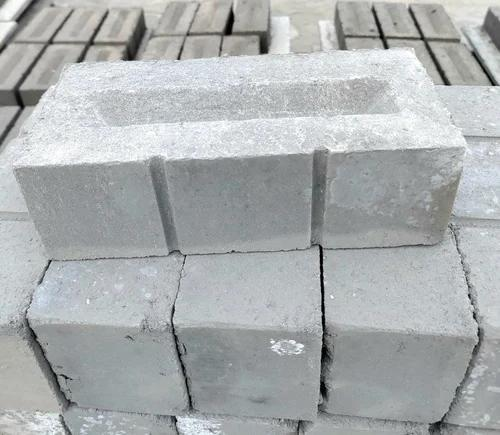brick: (12, 148, 467, 263), (322, 328, 479, 424), (29, 322, 190, 414), (177, 327, 322, 418)
